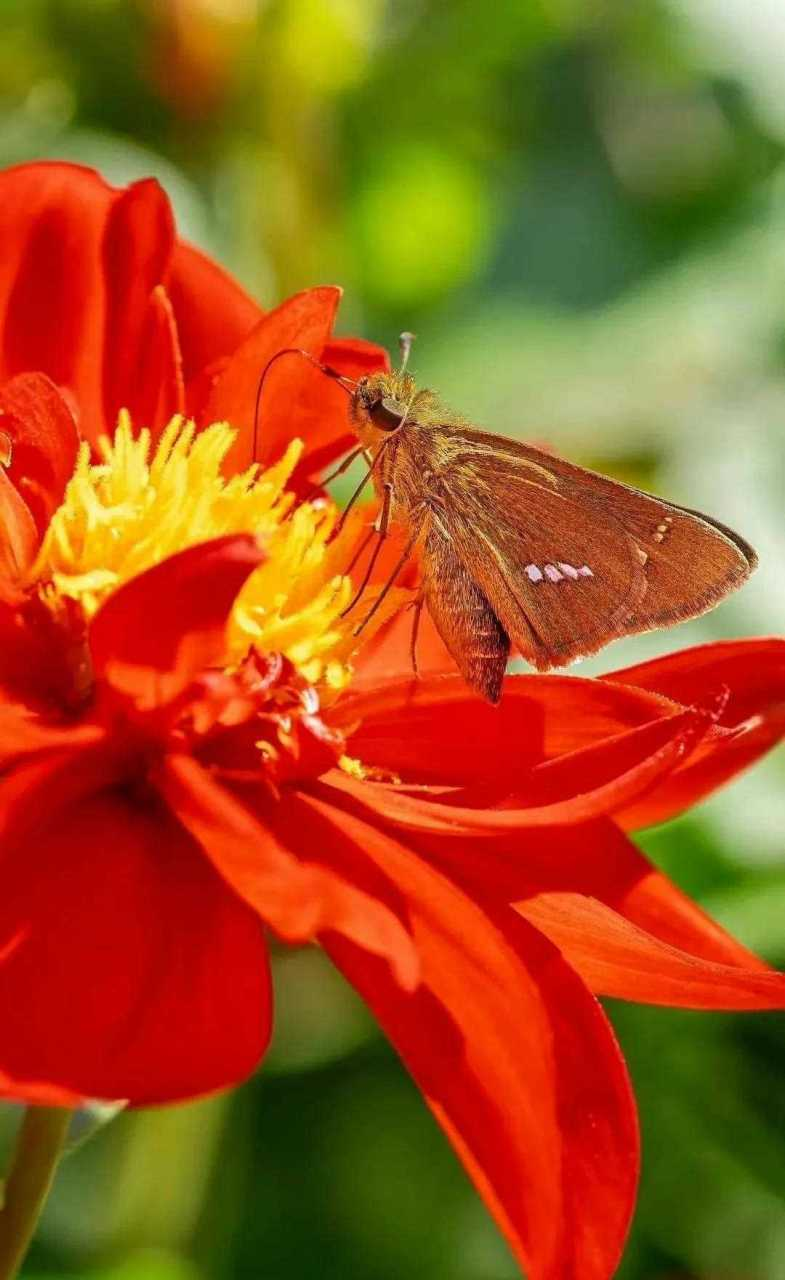Hesperiidae: (268, 309, 764, 686)
